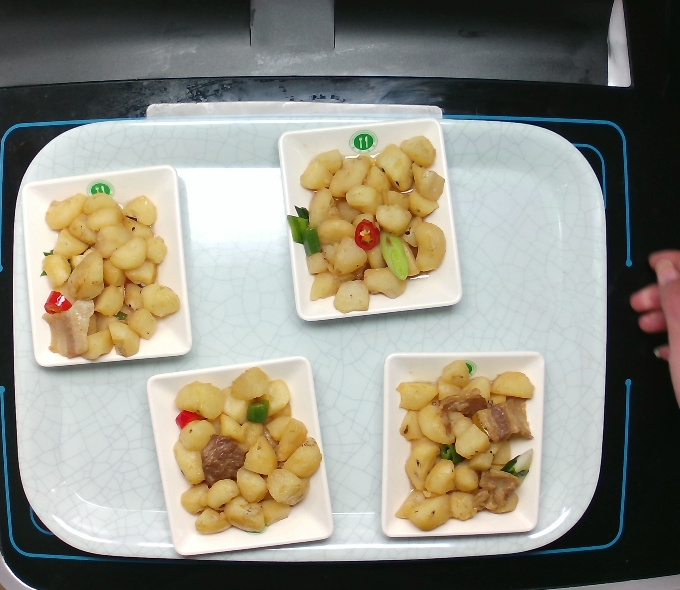wcq-MaTiGuoChaoRou: (283, 131, 451, 315), (167, 362, 324, 539), (36, 186, 189, 364), (392, 352, 539, 534)
